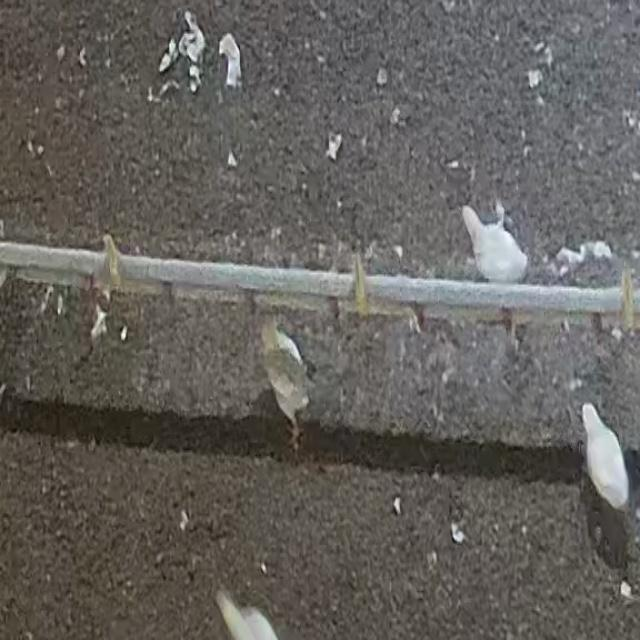chicken: (254, 305, 311, 444), (580, 396, 635, 508), (461, 205, 530, 286)
